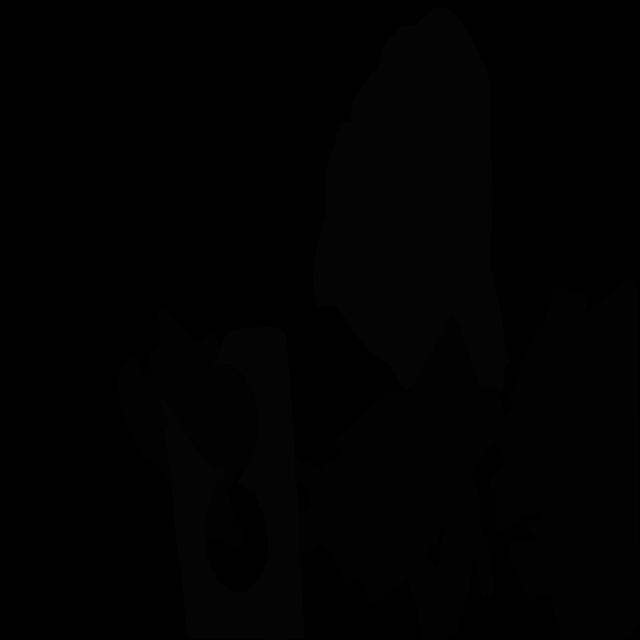cardboard: (295, 317, 505, 605), (490, 276, 640, 639), (117, 307, 258, 548), (408, 475, 495, 639)
soft_plastic: (313, 6, 508, 394), (160, 326, 305, 640)
